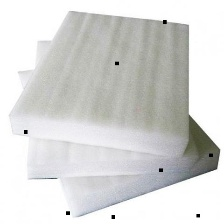foam_box: (14, 64, 224, 220), (4, 6, 195, 163), (24, 34, 202, 182)
